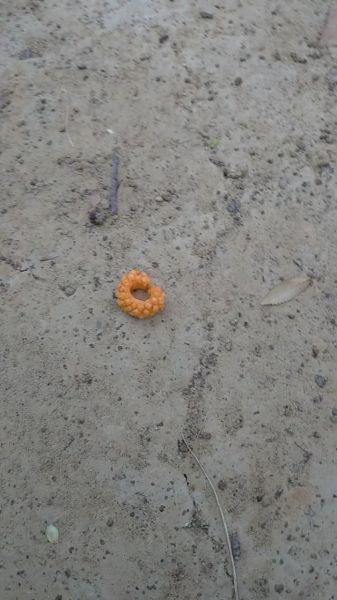eggs: (115, 264, 167, 319)
